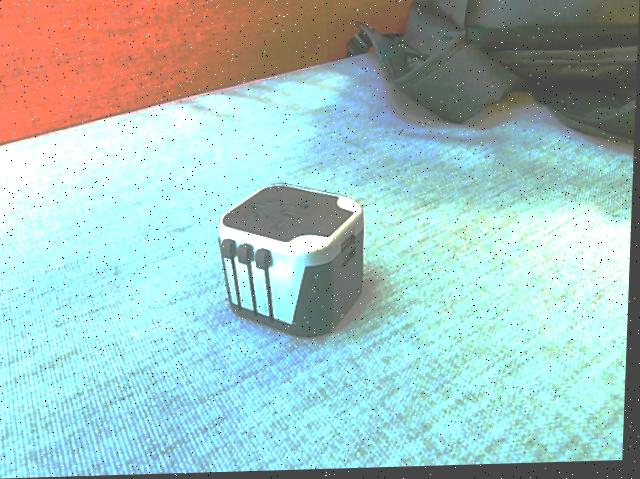adapter: (214, 182, 368, 342)
